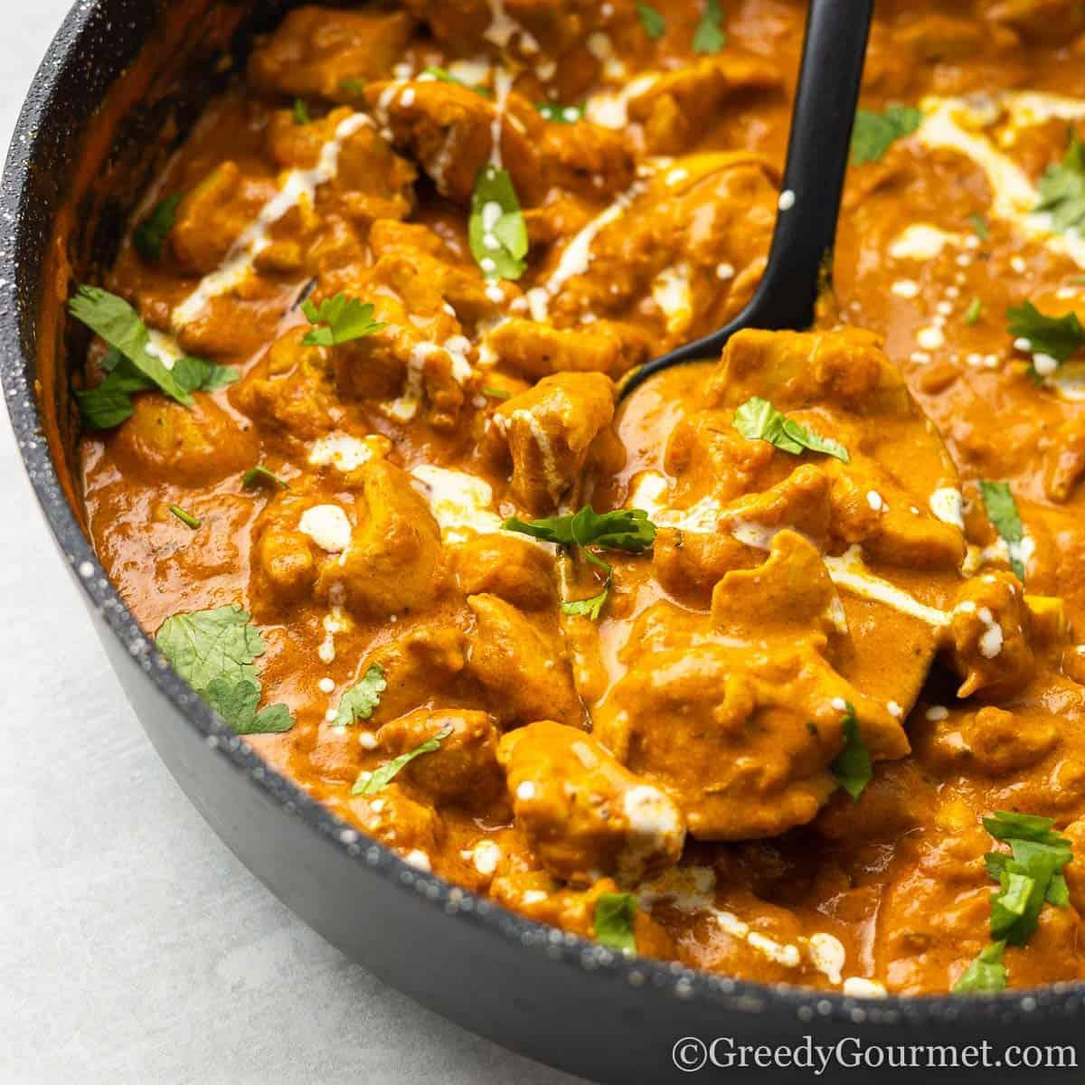chicken: (78, 35, 1085, 1000)
